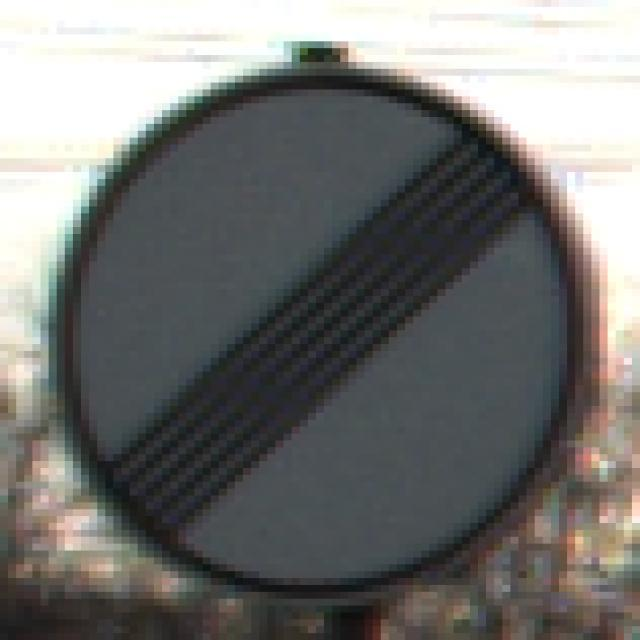restriction ends: (40, 58, 604, 615)
